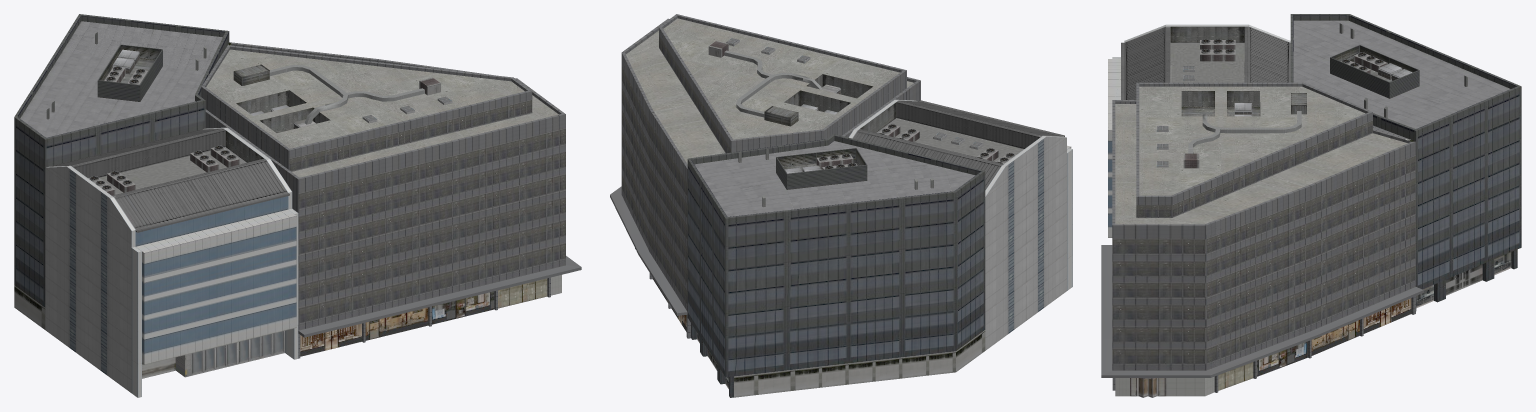
File: building-f.glb
The picture shows the model from 3 angles, left to right: view 1: azimuth 30°, elevation 25°; view 2: azimuth 150°, elevation 25°; view 3: azimuth 270°, elevation 25°; orthographic projection. The views are drawn at different scales.
Visible parts, largest first — view 1: Plane001; view 2: Plane001; view 3: Plane001.
Boxes of the visible parts, x1,y1,x2,y2 form: Plane001: (14,14,581,397); Plane001: (610,14,1072,397); Plane001: (1101,14,1521,397).
Bounding box in the file's own units: 2 × 0.8923 × 1.73.
Materials: 1 (1 with a texture image).
